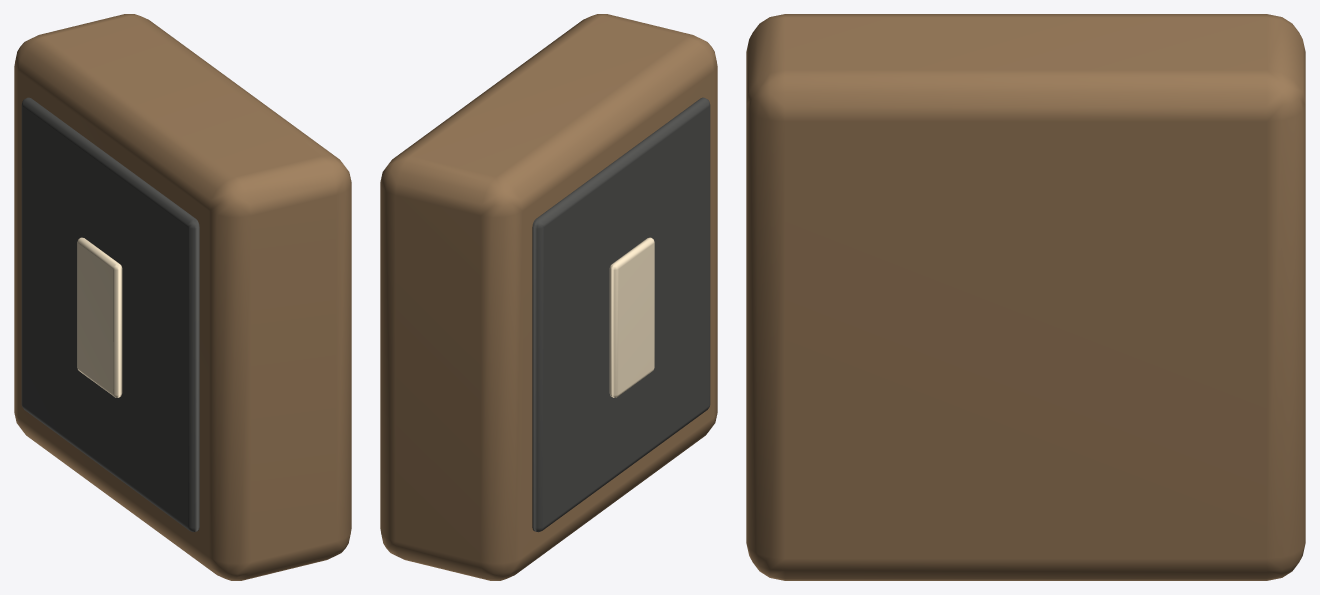
Rendered from MirrorBezel.fbx.
3 renders of one model, left to right at view 1: azimuth 30°, elevation 25°; view 2: azimuth 150°, elevation 25°; view 3: azimuth 270°, elevation 25°, orthographic. The views are drawn at different scales.
Parts seen in each view (by area): view 1: MirrorBezel; view 2: MirrorBezel; view 3: MirrorBezel.
Part boxes in pixels (box(x1,y1,x2,y2)): MirrorBezel: box(14, 14, 351, 580); MirrorBezel: box(380, 14, 717, 580); MirrorBezel: box(746, 14, 1305, 580).
Size of the model in its own units: 0.147 by 0.36 by 0.36.
